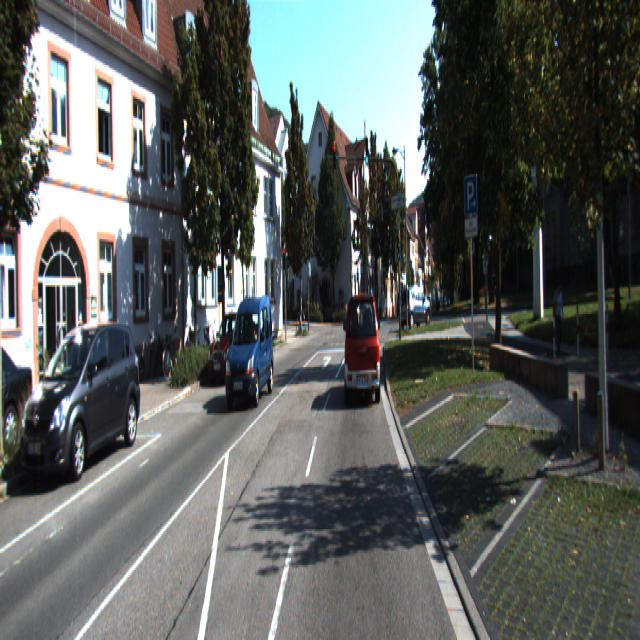Car: (17, 318, 142, 484), (224, 292, 275, 410), (0, 333, 35, 461), (346, 292, 382, 404), (204, 312, 257, 386), (398, 285, 434, 331)
